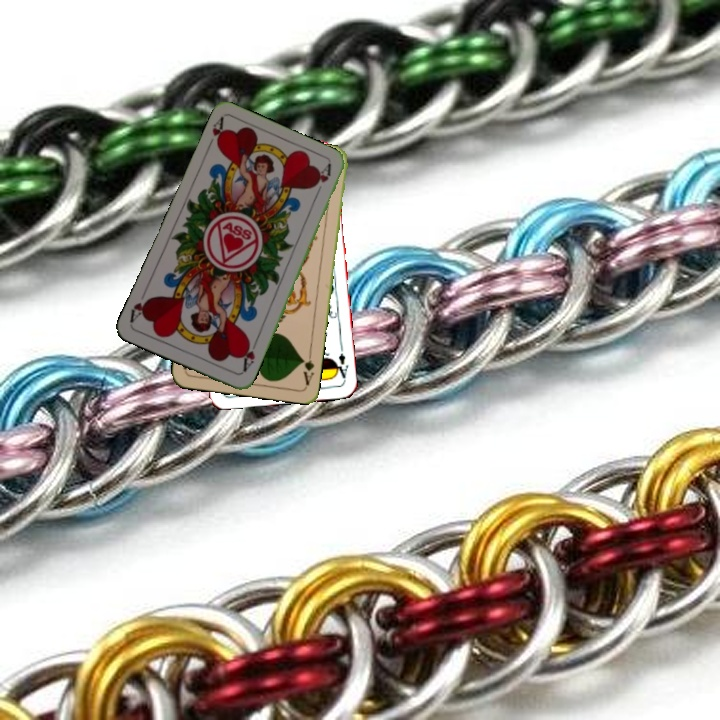EA: (331, 349, 351, 383)
GA: (298, 347, 317, 388)
HA: (202, 114, 229, 153), (238, 335, 260, 374)
